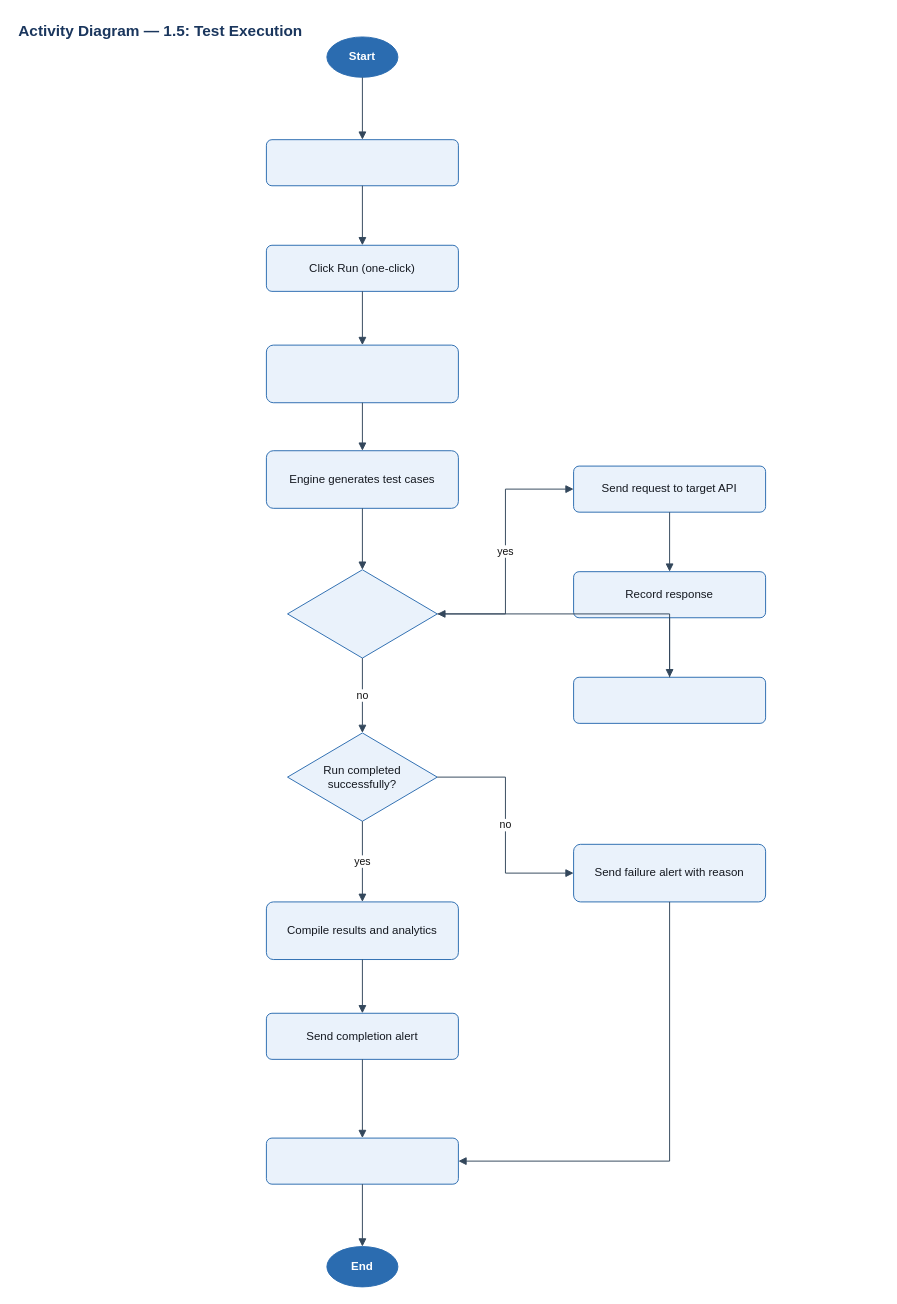
Some shapes in this 897 by 1304 pixel diagram are drawn without their labels. The centre of each missing label's shape, as x and y in pixels:
Backend creates async job (jobId): pixel 361 373
More requests to send?: pixel 362 613
Select a test suite: pixel 361 162
Store results and report: pixel 361 1160
Update live progress: pixel 669 699
